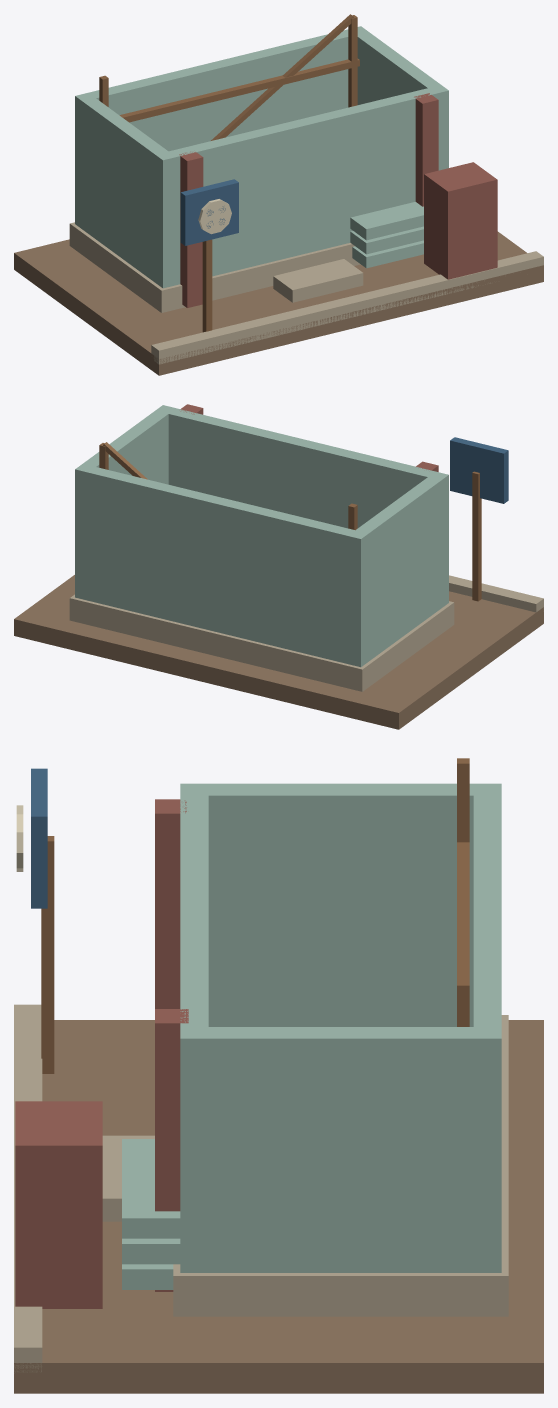
File: cinema-seabreeze-half-built.glb
3 renders of one model, top to bottom at view 1: azimuth 30°, elevation 25°; view 2: azimuth 150°, elevation 25°; view 3: azimuth 270°, elevation 25°, orthographic. The views are drawn at different scales.
Parts seen in each view (by area): view 1: cinema; view 2: cinema; view 3: cinema.
Part boxes in pixels (left/top/right/bottom): cinema: left=14, top=14, right=543, bottom=375; cinema: left=14, top=404, right=543, bottom=729; cinema: left=14, top=758, right=543, bottom=1393.
Size of the model in its own units: 2.88 by 1.38 by 1.88.
